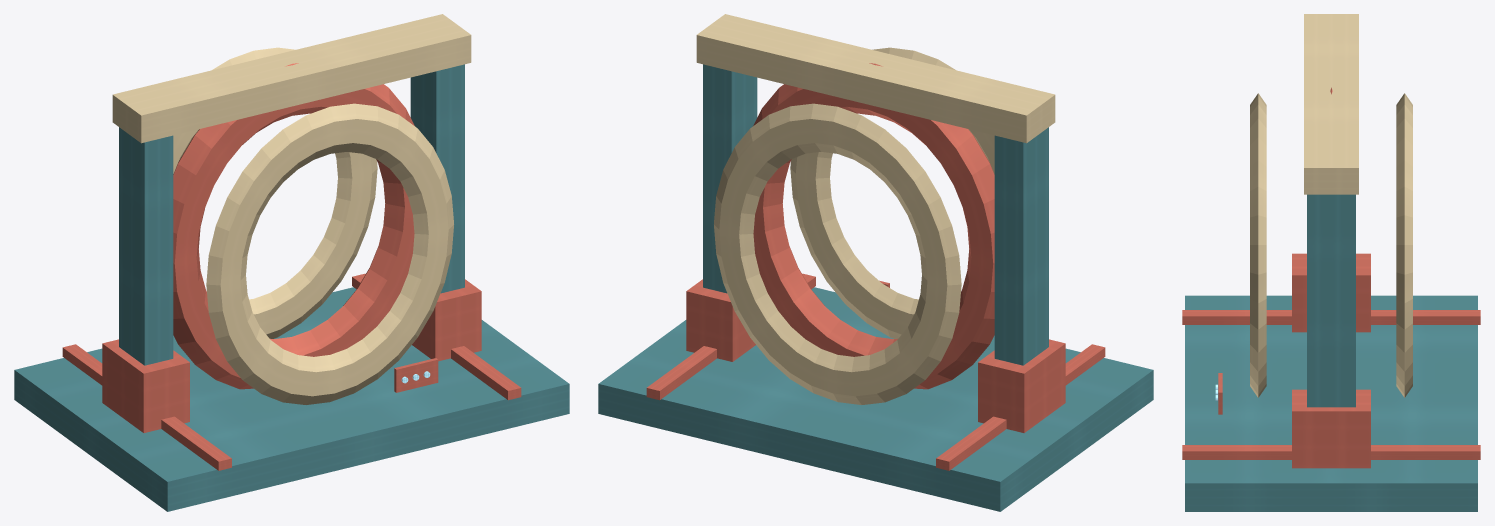
File: atlas100-s073-a01.glb
The picture shows the model from 3 angles, left to right: view 1: azimuth 30°, elevation 25°; view 2: azimuth 150°, elevation 25°; view 3: azimuth 270°, elevation 25°; orthographic projection. The views are drawn at different scales.
Visible parts, largest first — view 1: atlas100-s073-a01:part-000, atlas100-s073-a01:part-010, atlas100-s073-a01:part-008, atlas100-s073-a01:part-007, atlas100-s073-a01:part-003, atlas100-s073-a01:part-009, atlas100-s073-a01:part-005, atlas100-s073-a01:part-004, atlas100-s073-a01:part-006, atlas100-s073-a01:part-001, atlas100-s073-a01:part-002, atlas100-s073-a01:part-011; view 2: atlas100-s073-a01:part-000, atlas100-s073-a01:part-009, atlas100-s073-a01:part-008, atlas100-s073-a01:part-007, atlas100-s073-a01:part-003, atlas100-s073-a01:part-010, atlas100-s073-a01:part-005, atlas100-s073-a01:part-004, atlas100-s073-a01:part-006, atlas100-s073-a01:part-001, atlas100-s073-a01:part-002; view 3: atlas100-s073-a01:part-000, atlas100-s073-a01:part-005, atlas100-s073-a01:part-007, atlas100-s073-a01:part-006, atlas100-s073-a01:part-009, atlas100-s073-a01:part-010, atlas100-s073-a01:part-002, atlas100-s073-a01:part-001, atlas100-s073-a01:part-004.
Part boxes in pixels (x1,y1,x2,y2): atlas100-s073-a01:part-000: [14, 287, 569, 511]; atlas100-s073-a01:part-010: [206, 103, 453, 404]; atlas100-s073-a01:part-008: [173, 63, 414, 389]; atlas100-s073-a01:part-007: [112, 14, 471, 143]; atlas100-s073-a01:part-003: [119, 127, 173, 365]; atlas100-s073-a01:part-009: [173, 47, 377, 338]; atlas100-s073-a01:part-005: [410, 64, 464, 293]; atlas100-s073-a01:part-004: [102, 339, 189, 432]; atlas100-s073-a01:part-006: [412, 279, 481, 361]; atlas100-s073-a01:part-001: [62, 344, 231, 470]; atlas100-s073-a01:part-002: [352, 273, 521, 400]; atlas100-s073-a01:part-011: [394, 358, 438, 392]; atlas100-s073-a01:part-000: [598, 287, 1153, 511]; atlas100-s073-a01:part-009: [714, 103, 961, 404]; atlas100-s073-a01:part-008: [753, 63, 994, 389]; atlas100-s073-a01:part-007: [696, 14, 1055, 143]; atlas100-s073-a01:part-003: [994, 127, 1048, 365]; atlas100-s073-a01:part-010: [790, 47, 994, 338]; atlas100-s073-a01:part-005: [703, 64, 757, 293]; atlas100-s073-a01:part-004: [978, 339, 1065, 432]; atlas100-s073-a01:part-006: [686, 279, 755, 361]; atlas100-s073-a01:part-001: [936, 344, 1105, 470]; atlas100-s073-a01:part-002: [646, 273, 815, 400]; atlas100-s073-a01:part-000: [1185, 295, 1477, 511]; atlas100-s073-a01:part-005: [1307, 194, 1355, 407]; atlas100-s073-a01:part-007: [1304, 14, 1358, 194]; atlas100-s073-a01:part-006: [1292, 389, 1370, 468]; atlas100-s073-a01:part-009: [1396, 93, 1412, 397]; atlas100-s073-a01:part-010: [1250, 93, 1266, 397]; atlas100-s073-a01:part-002: [1182, 445, 1480, 459]; atlas100-s073-a01:part-001: [1182, 310, 1480, 324]; atlas100-s073-a01:part-004: [1292, 253, 1370, 332].
Bounding box in the file's own units: 3.64 × 2.97 × 2.45.
Materials: 4 (4 with a texture image).
